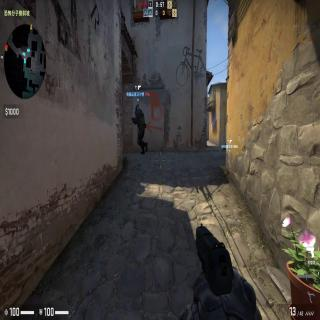CT-Body: (131, 104, 148, 156)
CT-Head: (135, 104, 140, 110)
